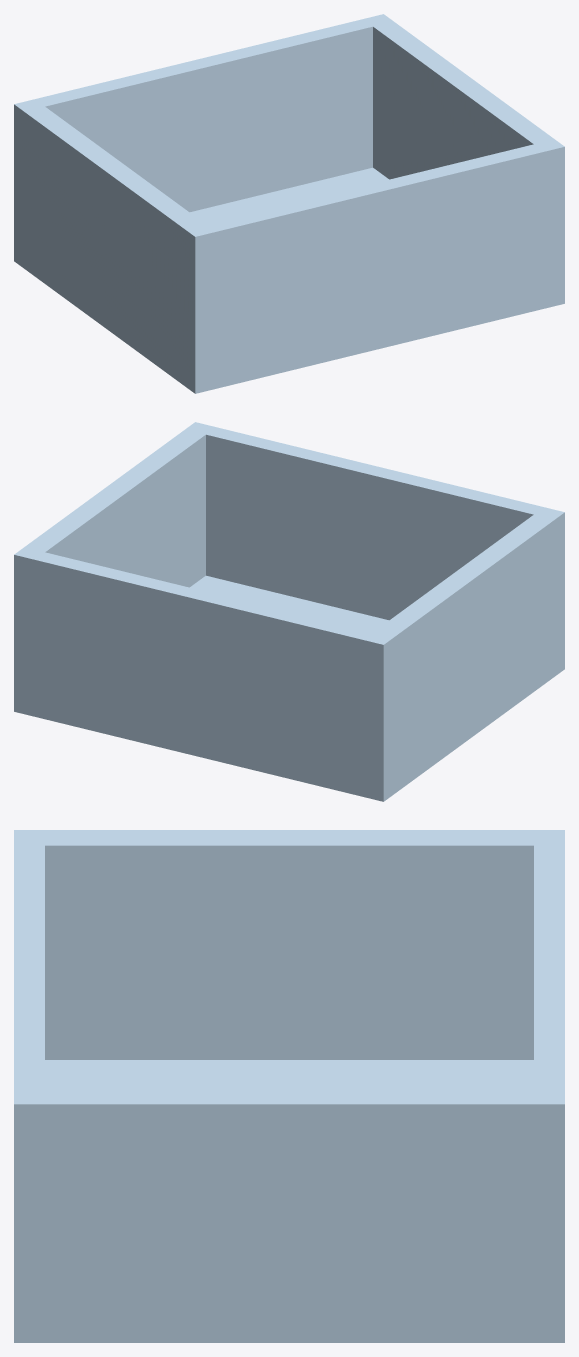
The model's file is cajagua.fbx.
The picture shows the model from 3 angles, top to bottom: view 1: azimuth 30°, elevation 25°; view 2: azimuth 150°, elevation 25°; view 3: azimuth 270°, elevation 25°; orthographic projection. The views are drawn at different scales.
Visible parts, largest first — view 1: Cube.001; view 2: Cube.001; view 3: Cube.001.
Boxes of the visible parts, x1,y1,x2,y2 form: Cube.001: (14, 14, 564, 393); Cube.001: (14, 422, 564, 801); Cube.001: (14, 830, 564, 1342).
Size of the model in its own units: 548 by 222 by 465.
